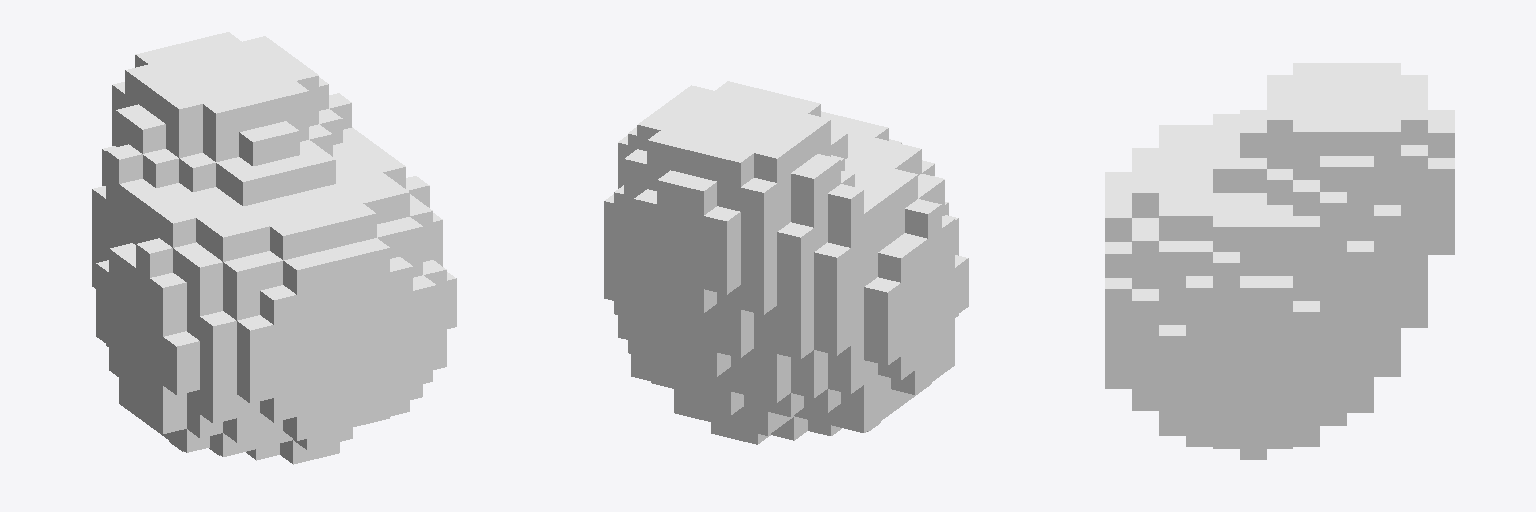
File: kot-8.obj
3 views of the same model, side by side, from view 1: azimuth 30°, elevation 25°; view 2: azimuth 150°, elevation 25°; view 3: azimuth 270°, elevation 25° (orthographic).
Parts seen in each view (by area): view 1: object 1; view 2: object 1; view 3: object 1.
Part boxes in pixels (bbox=[...]): object 1: bbox=[92, 32, 456, 464]; object 1: bbox=[604, 81, 968, 444]; object 1: bbox=[1105, 63, 1454, 459].
Size of the model in its own units: 1.2 by 1.3 by 1.3.